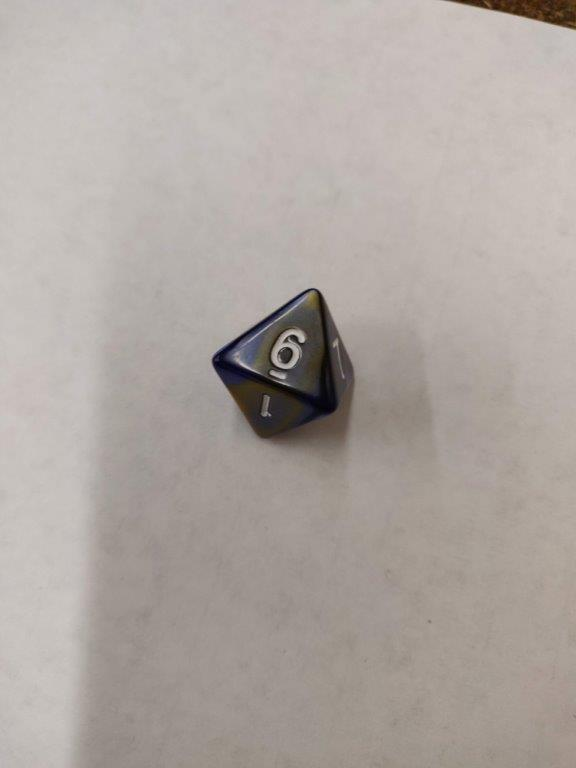d8-6: (213, 287, 355, 444)
